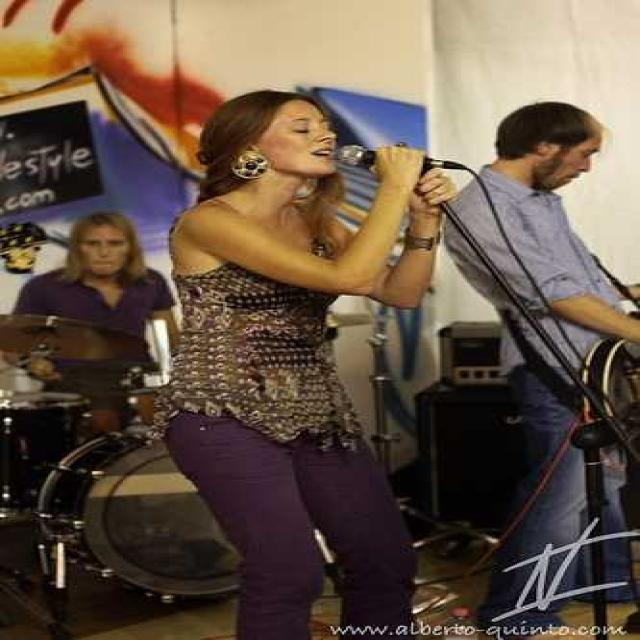microphone: (335, 140, 472, 185)
